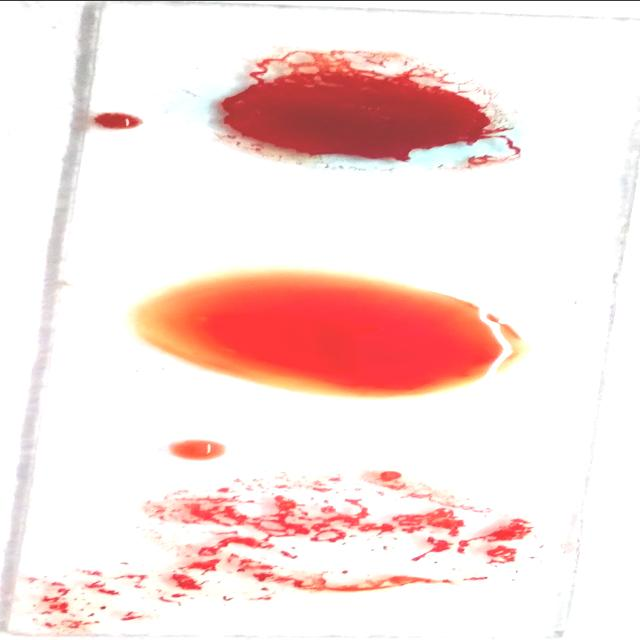A: (156, 45, 548, 172)
D: (119, 471, 550, 586)
